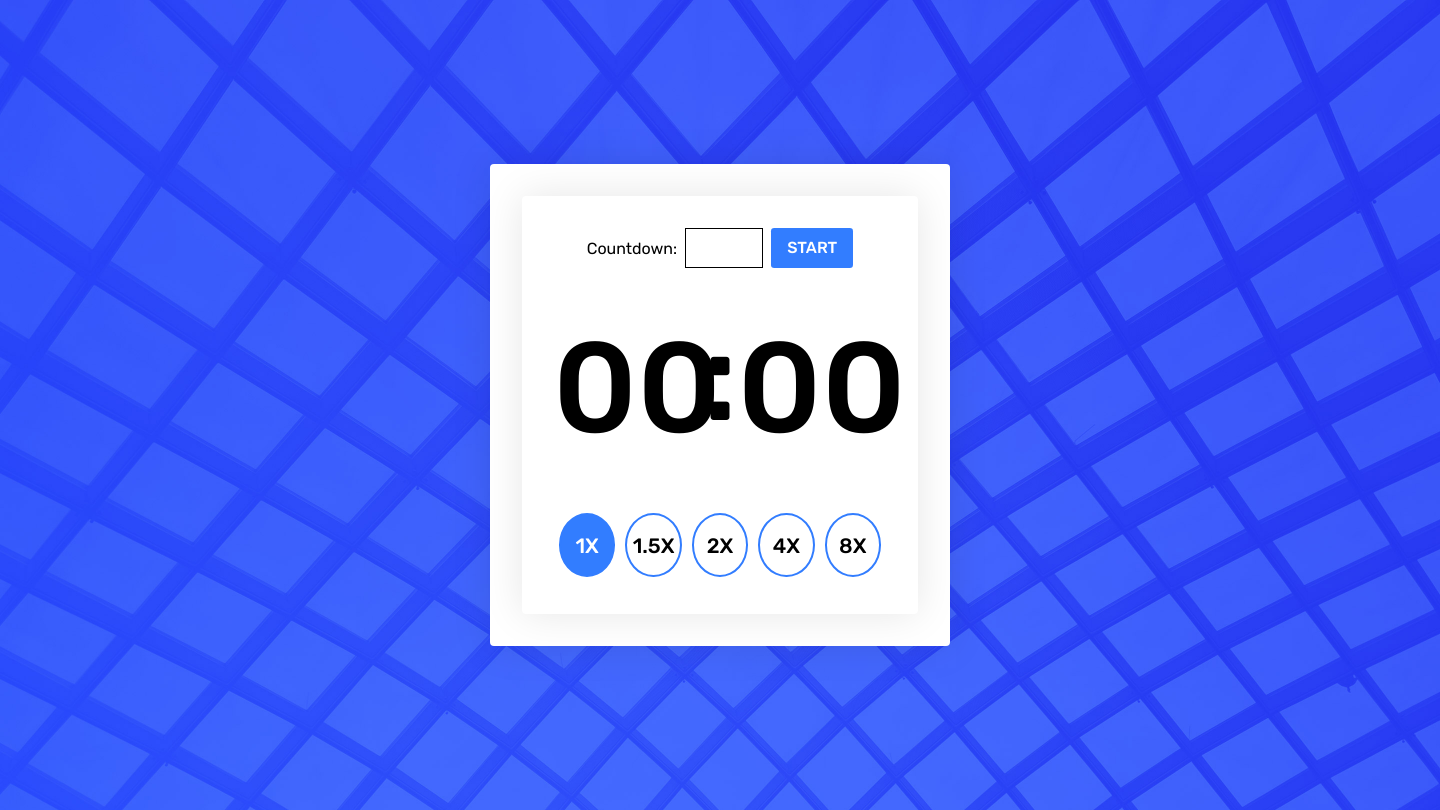
it: Start button show "Restart" when start clicked
Type "999" into the number field.
click(724, 248); type("999")  # box [685,228,763,268]
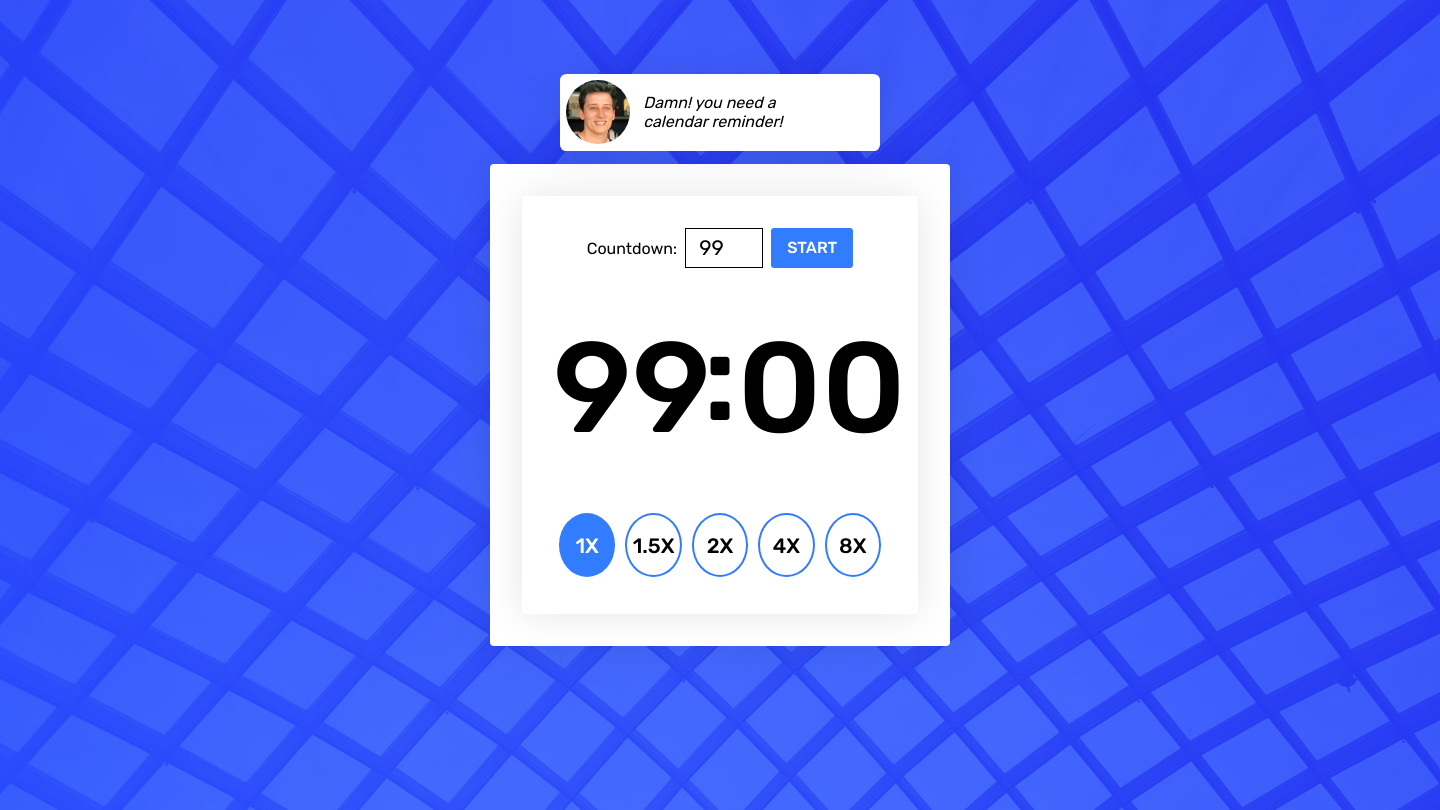
Click the button with class "ze-btn-primary".
click(812, 248)  # box [771,228,853,268]
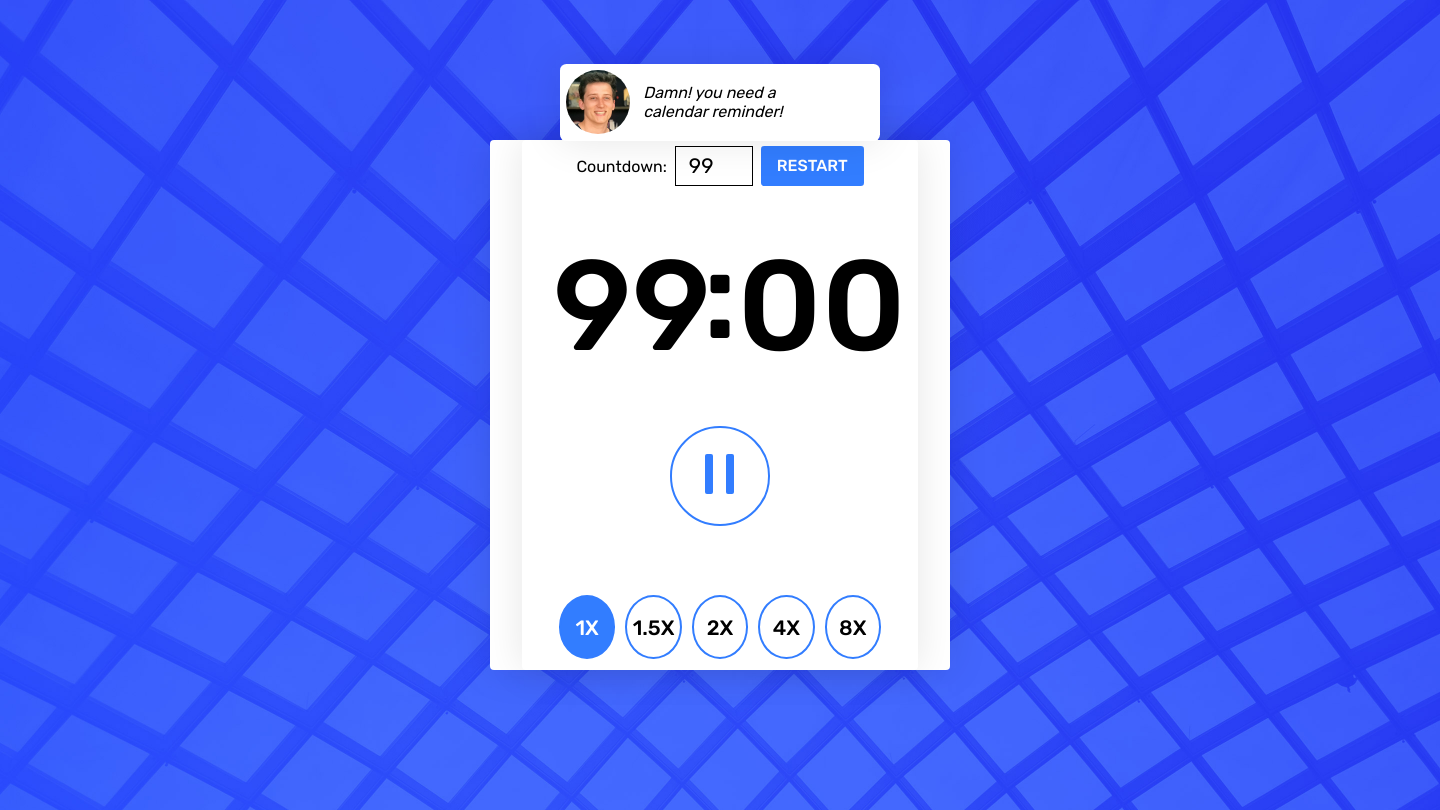
Check: the button with class "ze-btn-primary" reads "Restart", box [761,146,864,186]
